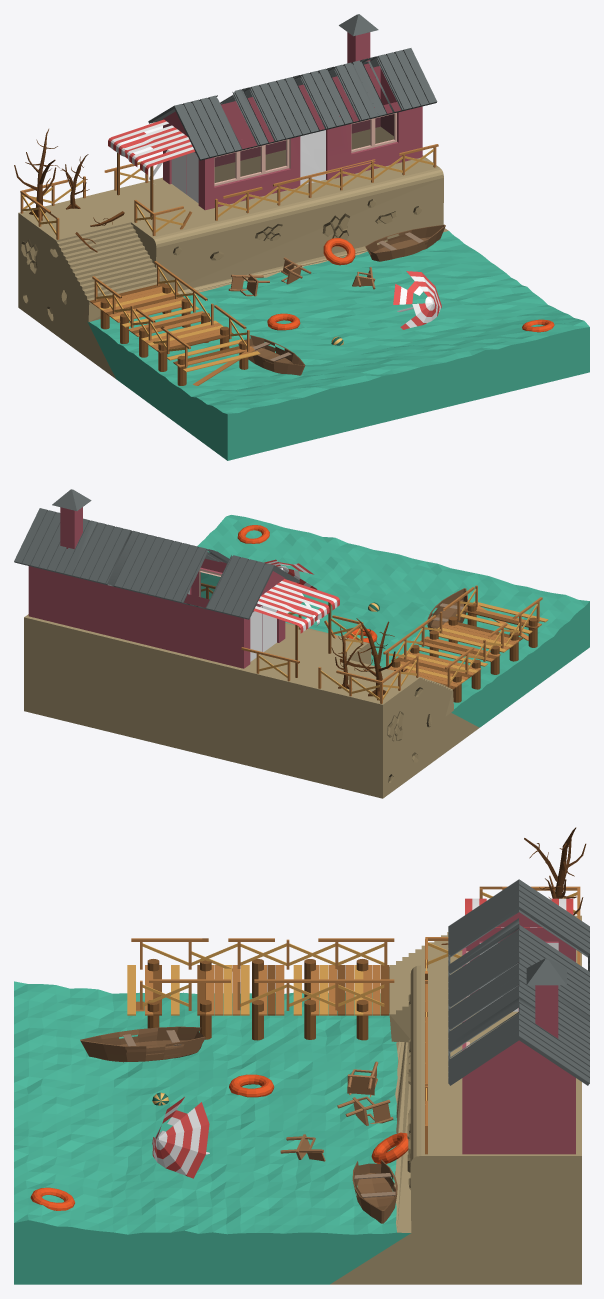
Rendered from 01 Zombie_14.FBX.
The picture shows the model from 3 angles, top to bottom: view 1: azimuth 30°, elevation 25°; view 2: azimuth 150°, elevation 25°; view 3: azimuth 270°, elevation 25°; orthographic projection. The views are drawn at different scales.
Visible parts, largest first — view 1: Base, Broken_House, Broken_Wooden_Pull, Wooden_fence_1, Cafe_Blinds, Boat_2, Broken_umbrella, Boat_1, Wooden_fence_2, _11_tree003, Life Gurd tube_3; view 2: Base, Broken_House, Broken_Wooden_Pull, Cafe_Blinds, Wooden_fence_2, _11_tree003, Boat_1, Wooden_fence_1, Broken_umbrella, Life Gurd tube_2; view 3: Base, Broken_House, Broken_Wooden_Pull, Boat_1, Broken_umbrella, Boat_2, Wooden_fence_1, _11_tree003, Box079, Life Gurd tube_3, Life Gurd tube_1, Box015 (+2 smaller).
Part boxes in pixels (x1,y1,x2,y2): Base: [18, 126, 589, 460]; Broken_House: [148, 14, 437, 210]; Broken_Wooden_Pull: [89, 261, 260, 385]; Wooden_fence_1: [134, 144, 438, 235]; Cafe_Blinds: [108, 119, 194, 219]; Boat_2: [365, 224, 445, 261]; Broken_umbrella: [393, 271, 441, 329]; Boat_1: [238, 335, 305, 375]; Wooden_fence_2: [20, 161, 148, 239]; _11_tree003: [14, 129, 59, 220]; Life Gurd tube_3: [323, 238, 355, 265]; Base: [24, 515, 589, 798]; Broken_House: [14, 489, 299, 668]; Broken_Wooden_Pull: [383, 585, 548, 702]; Cafe_Blinds: [253, 579, 339, 677]; Wooden_fence_2: [241, 647, 418, 703]; _11_tree003: [355, 618, 395, 700]; Boat_1: [427, 588, 468, 631]; Wooden_fence_1: [201, 583, 363, 656]; Broken_umbrella: [264, 559, 317, 589]; Life Gurd tube_2: [237, 525, 269, 543]; Base: [14, 915, 581, 1284]; Broken_House: [448, 879, 589, 1154]; Broken_Wooden_Pull: [127, 938, 394, 1040]; Boat_1: [80, 1026, 205, 1062]; Broken_umbrella: [152, 1097, 209, 1178]; Boat_2: [352, 1159, 397, 1223]; Wooden_fence_1: [425, 937, 462, 1154]; _11_tree003: [524, 827, 586, 898]; Box079: [337, 1096, 393, 1125]; Life Gurd tube_3: [371, 1132, 408, 1163]; Life Gurd tube_1: [229, 1074, 274, 1097]; Box015: [347, 1061, 378, 1097].
Bounding box in the file's own units: 10437 × 5871 × 10138.
